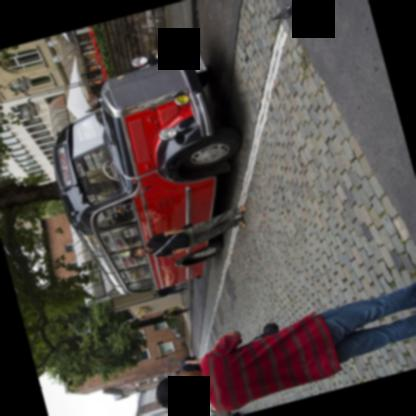handbag: (152, 222, 193, 254)
